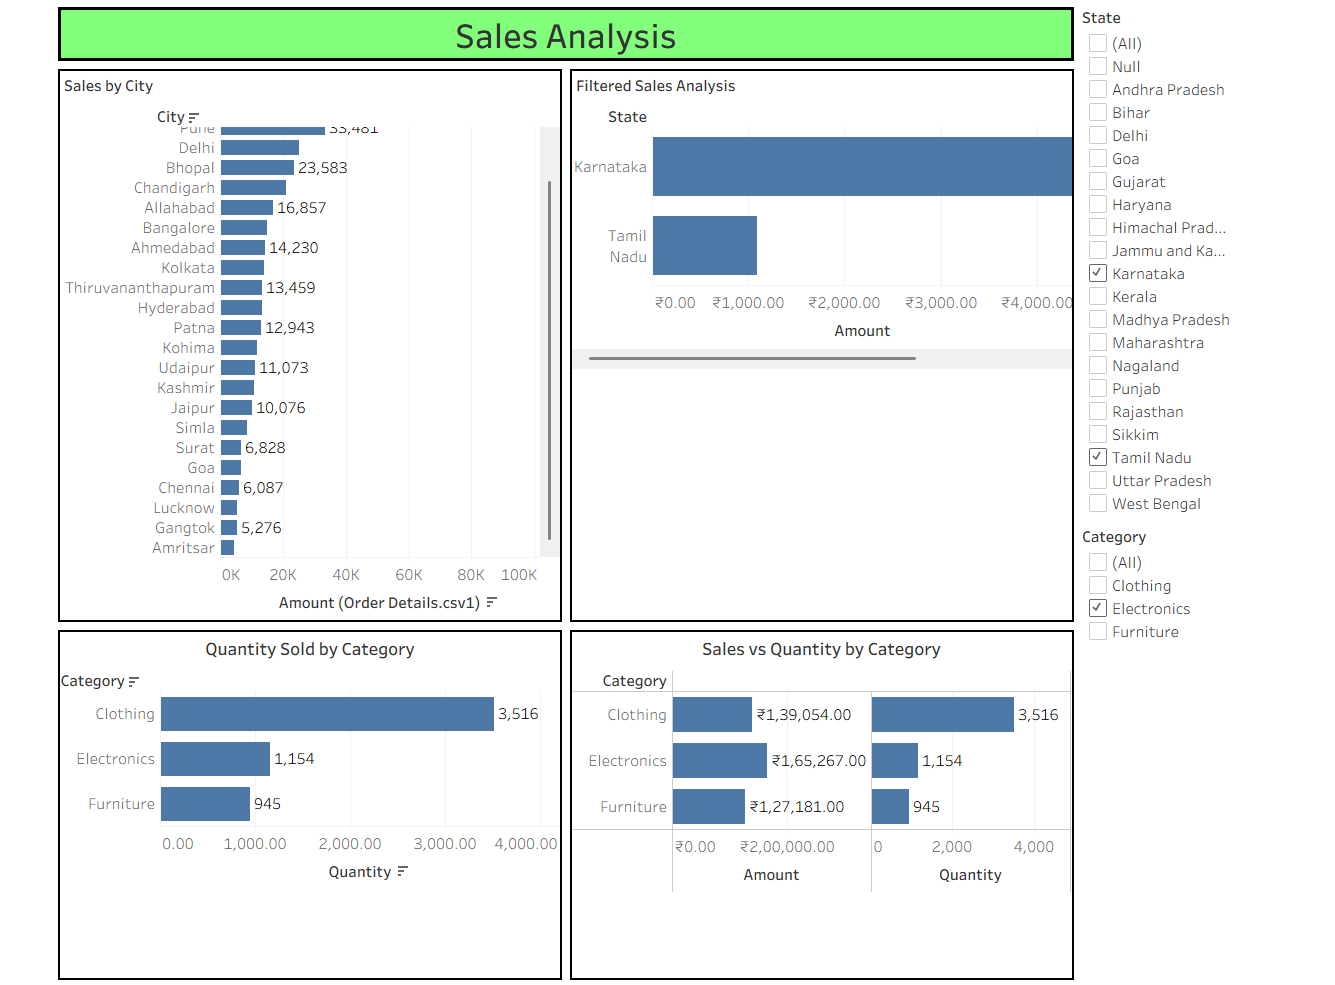

This screenshot's page, from the dashboard's own definition file:
{"tool":"tableau","page":{"name":"Dashboard 2","canvas":[1200,1300],"ordinal":1},"visuals":[{"type":"title","box":[8,8,1024,62]},{"type":"filter","title":"Q11 - Filtered Sales Analysis","param":"[federated.1nw9gco17u5fsd13iecxl0usdi1p].[none:State:nk]","box":[1032,8,160,607]},{"type":"worksheet","title":"Q7 -  Sales by City","mark":"Automatic","rows":["City"],"cols":["Amount (Order Details.csv1)"],"box":[8,70,512,561]},{"type":"worksheet","title":"Q11 - Filtered Sales Analysis","mark":"Automatic","rows":["State"],"cols":["Amount"],"box":[520,70,512,561]},{"type":"filter","title":"Q11 - Filtered Sales Analysis","param":"[federated.1nw9gco17u5fsd13iecxl0usdi1p].[none:Category:nk]","box":[1032,615,160,148]},{"type":"worksheet","title":"Q12 — Quantity Sold by Category","mark":"Automatic","rows":["Category"],"cols":["Quantity"],"box":[8,631,512,358.3]},{"type":"worksheet","title":"Q14 — Sales vs Quantity by Category","mark":"Automatic","rows":["Category"],"cols":["Amount","Quantity"],"box":[520,631,512,358.3]},{"type":"worksheet","title":"Q15 — Sales Target vs Actual Sales","mark":"Automatic","rows":["Category (Sales target.csv)"],"cols":["Target","Amount"],"box":[8,989.3,1024,302.7]}]}

Visuals, with their boxes on the page's 1200x1300 design canvas (x1, y1, x2, y2). These are canvas units, not pixel positions in the 1335x985 screenshot, which may show the page scaled, cropped or inside an application window:
title: left=8, top=8, right=1032, bottom=70
"Q11 - Filtered Sales Analysis" filter: left=1032, top=8, right=1192, bottom=615
"Q7 -  Sales by City" worksheet: left=8, top=70, right=520, bottom=631
"Q11 - Filtered Sales Analysis" worksheet: left=520, top=70, right=1032, bottom=631
"Q11 - Filtered Sales Analysis" filter: left=1032, top=615, right=1192, bottom=763
"Q12 — Quantity Sold by Category" worksheet: left=8, top=631, right=520, bottom=989
"Q14 — Sales vs Quantity by Category" worksheet: left=520, top=631, right=1032, bottom=989
"Q15 — Sales Target vs Actual Sales" worksheet: left=8, top=989, right=1032, bottom=1292
